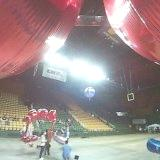Purple_Balloon: (84, 87, 95, 97)
Yellow_Square_GShape: (127, 92, 135, 101)
